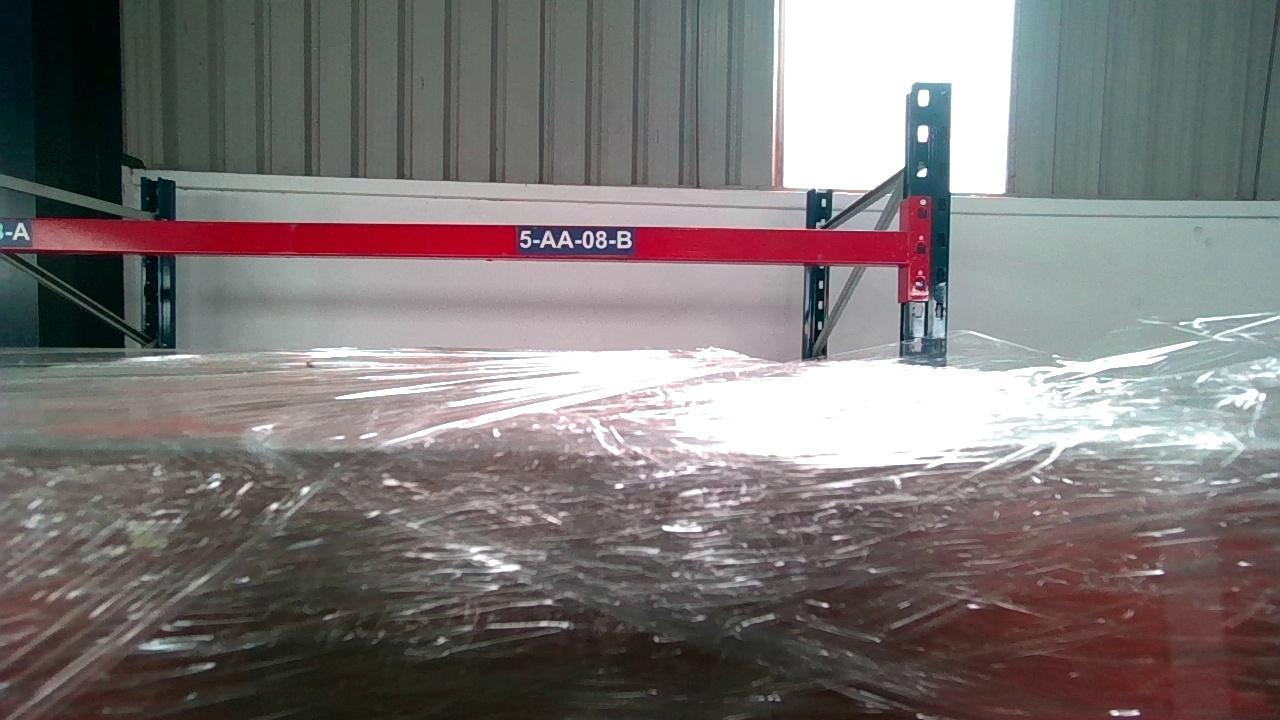h_rack: (0, 217, 908, 261)
